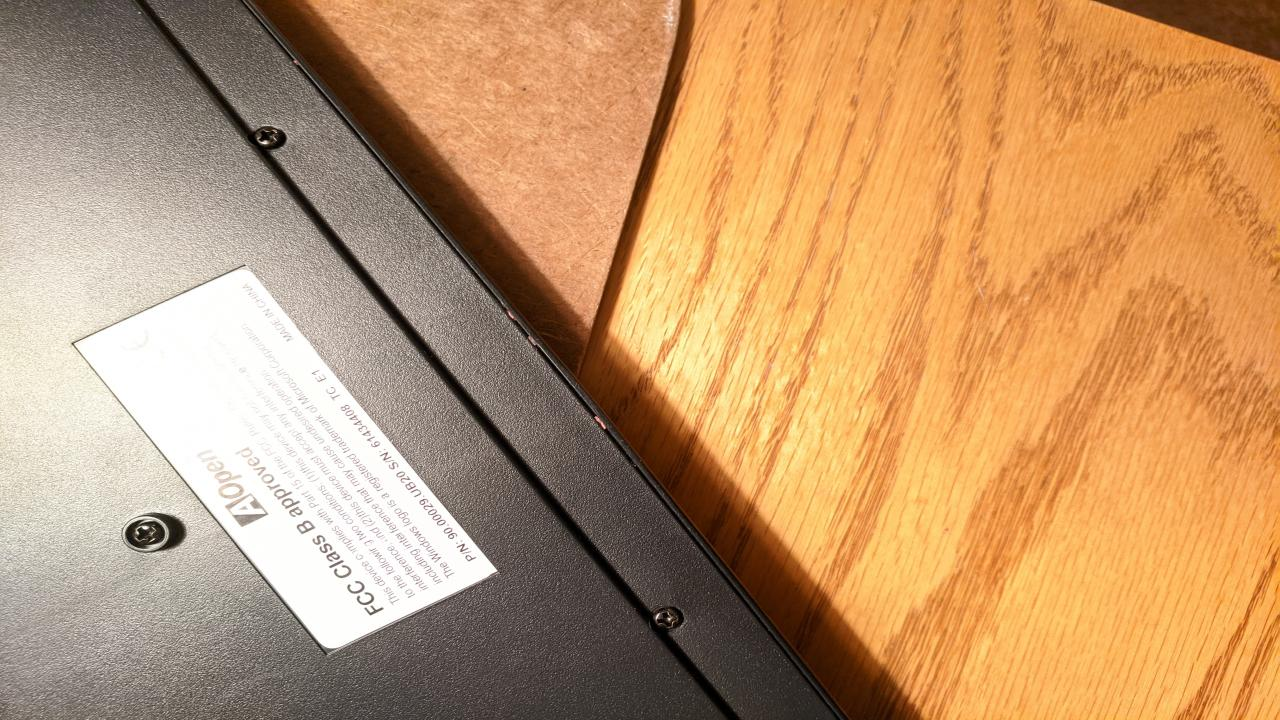CRS: (129, 519, 163, 547), (650, 607, 685, 631), (254, 126, 286, 150)
